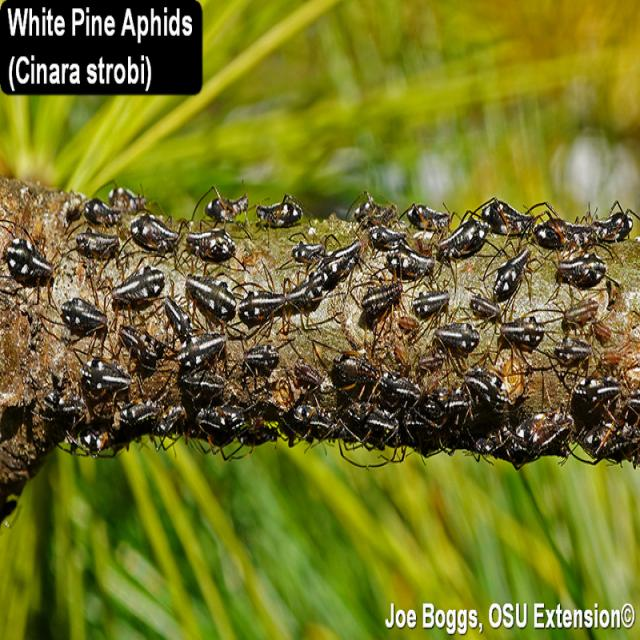Aphid-Grouped-: (14, 170, 634, 475)
